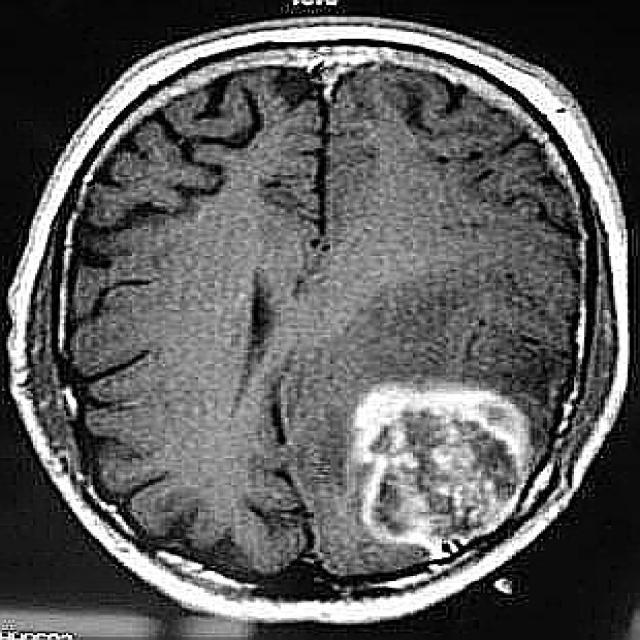Tumor-Cell: (338, 405, 520, 536)
